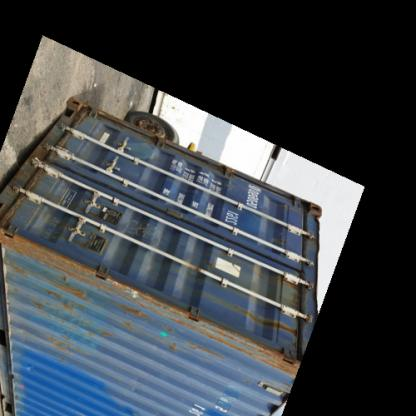Damage: (20, 236, 134, 294), (31, 290, 122, 359), (220, 314, 300, 386), (125, 287, 234, 337), (154, 332, 204, 364)
